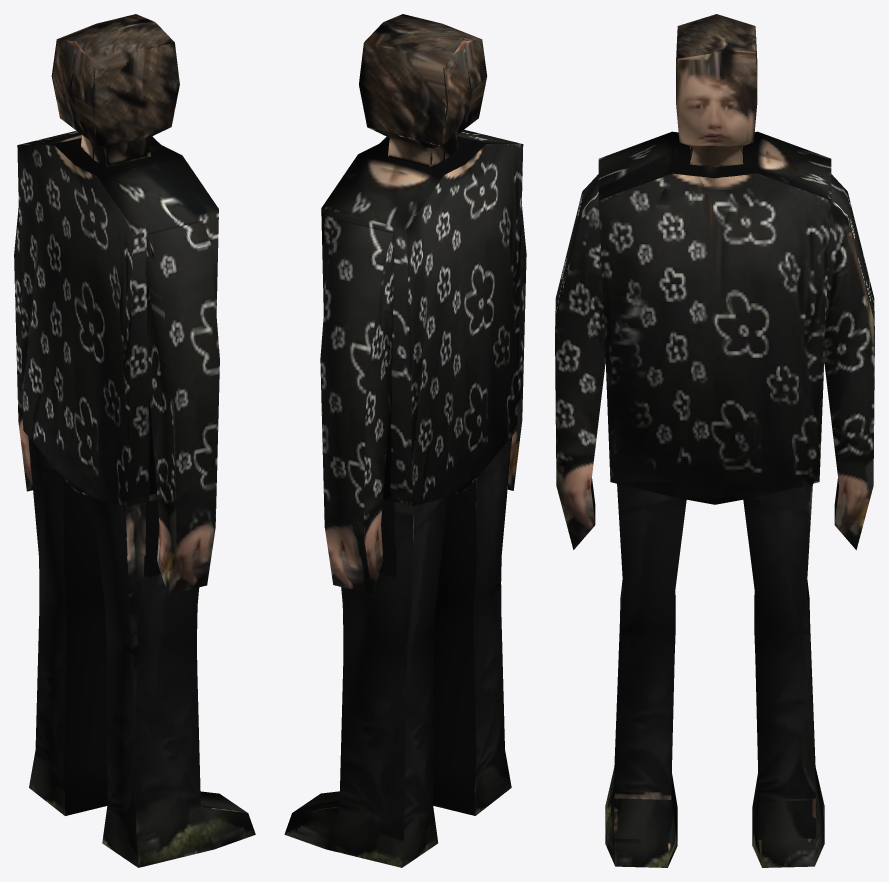
Rendered from enemy_main.fbx.
The picture shows the model from 3 angles, left to right: view 1: azimuth 30°, elevation 25°; view 2: azimuth 150°, elevation 25°; view 3: azimuth 270°, elevation 25°; orthographic projection.
Parts seen in each view (by area): view 1: Enemy; view 2: Enemy; view 3: Enemy.
Part boxes in pixels (box(x1,y1,x2,y2)): Enemy: box(14, 14, 255, 867); Enemy: box(284, 14, 526, 867); Enemy: box(555, 14, 874, 867).
Bounding box in the file's own units: 80.18 × 444 × 163.
1 material, 1 textured.
